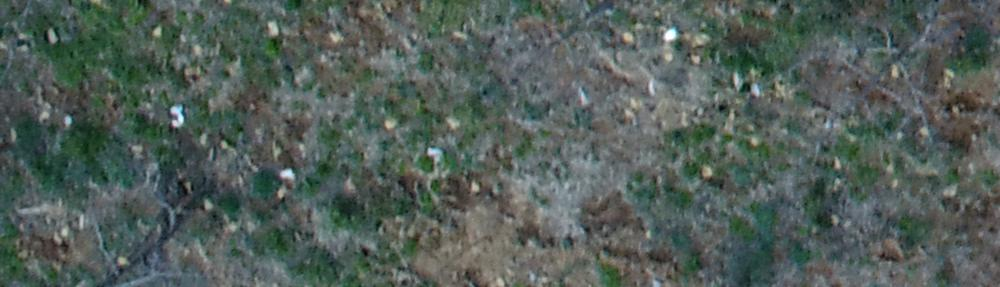apple: (757, 10, 990, 144)
